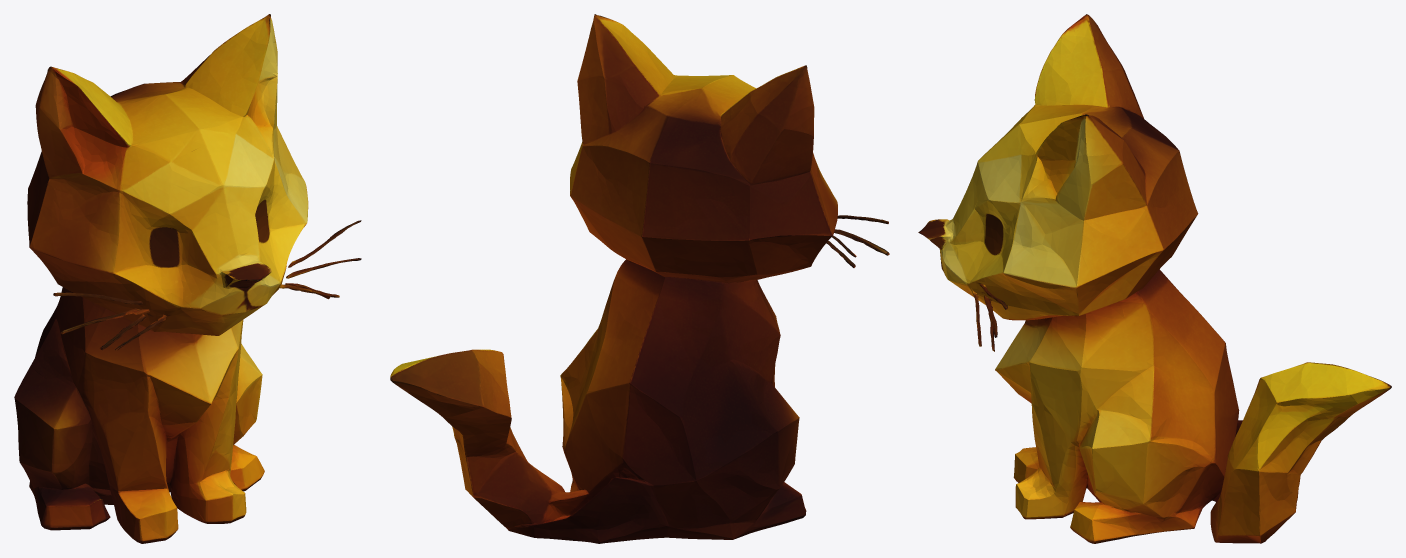
3 renders of one model, left to right at view 1: azimuth 30°, elevation 25°; view 2: azimuth 150°, elevation 25°; view 3: azimuth 270°, elevation 25°, orthographic. The views are drawn at different scales.
Parts seen in each view (by area): view 1: world; view 2: world; view 3: world.
Boxes of the visible parts, <box> form: world: <box>14,14,361,543</box>; world: <box>390,14,889,543</box>; world: <box>918,14,1391,543</box>.
Size of the model in its own units: 0.7185 by 1 by 0.9927.
Materials: 1 (1 with a texture image).
